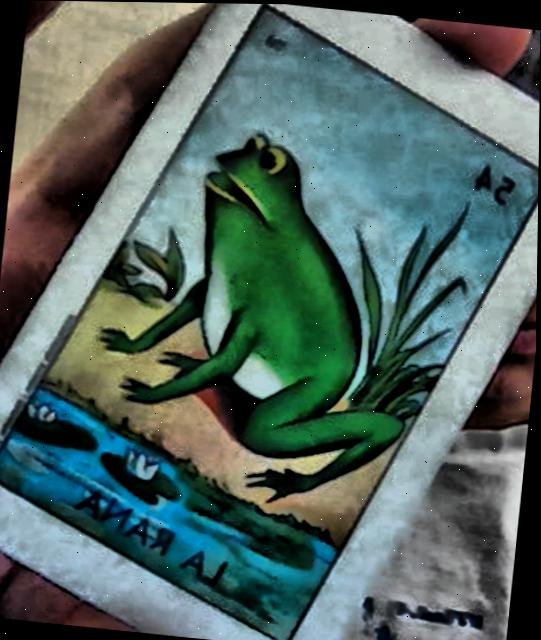La Rana: (0, 8, 539, 640)
